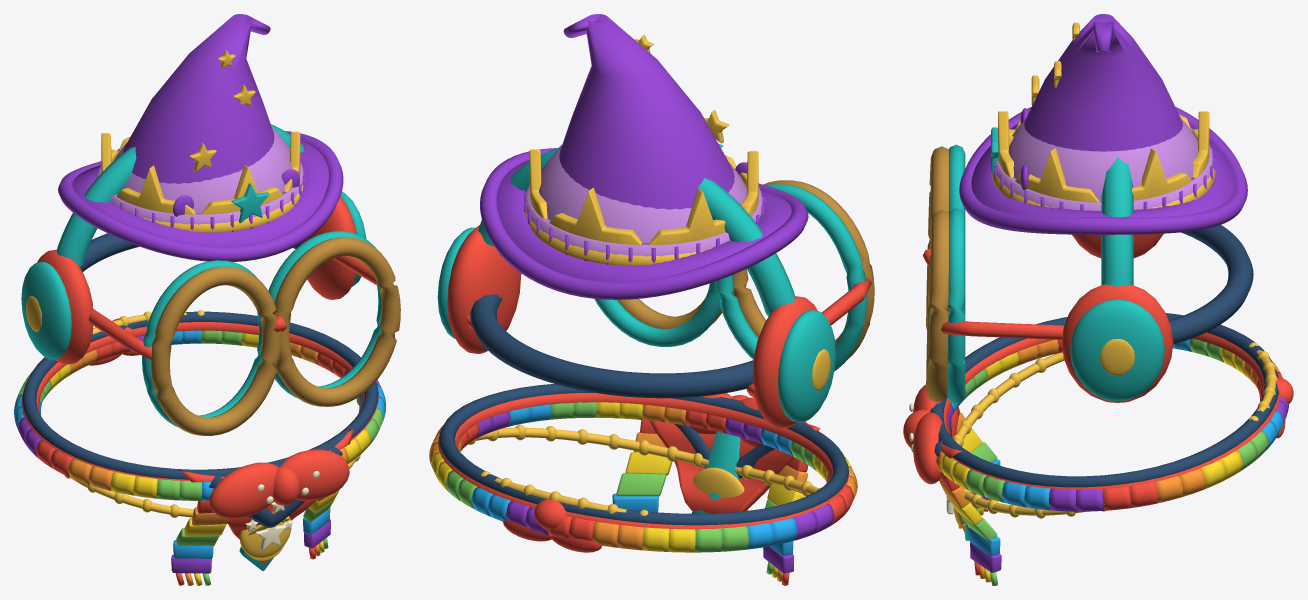
File: sunny-wearables.glb
The picture shows the model from 3 angles, left to right: view 1: azimuth 30°, elevation 25°; view 2: azimuth 150°, elevation 25°; view 3: azimuth 270°, elevation 25°; orthographic projection. The views are drawn at different scales.
Parts seen in each view (by area): view 1: wizard_Wearables_violet, goggles_Wearables_brass, medal_Wearables_navy, headphones_Wearables_teal, bowtie_Wearables_coral, beanie_Wearables_lilac, headphones_Wearables_coral, crown_Wearables_gold, goggles_Wearables_teal, bandana_Wearables_coral, scarf_Wearables_green, scarf_Wearables_yellow_yarn (+12 smaller); view 2: wizard_Wearables_violet, bandana_Wearables_coral, headphones_Wearables_teal, medal_Wearables_navy, headphones_Wearables_coral, goggles_Wearables_navy, goggles_Wearables_teal, beanie_Wearables_lilac, crown_Wearables_gold, necklace_Wearables_gold, scarf_Wearables_green, scarf_Wearables_yellow_yarn (+10 smaller); view 3: wizard_Wearables_violet, headphones_Wearables_teal, beanie_Wearables_lilac, medal_Wearables_navy, crown_Wearables_gold, goggles_Wearables_brass, goggles_Wearables_teal, headphones_Wearables_coral, goggles_Wearables_navy, bandana_Wearables_coral, necklace_Wearables_gold, scarf_Wearables_yellow_yarn (+10 smaller).
Boxes of the visible parts, left/top/right/bottom form: wizard_Wearables_violet: left=58, top=14, right=343, bottom=261; goggles_Wearables_brass: left=150, top=237, right=400, bottom=435; medal_Wearables_navy: left=22, top=311, right=378, bottom=527; headphones_Wearables_teal: left=21, top=124, right=366, bottom=359; bowtie_Wearables_coral: left=209, top=449, right=349, bottom=518; beanie_Wearables_lilac: left=98, top=128, right=303, bottom=224; headphones_Wearables_coral: left=37, top=196, right=356, bottom=364; crown_Wearables_gold: left=101, top=98, right=303, bottom=232; goggles_Wearables_teal: left=142, top=231, right=392, bottom=426; bandana_Wearables_coral: left=21, top=318, right=378, bottom=563; scarf_Wearables_green: left=15, top=330, right=384, bottom=585; scarf_Wearables_yellow_yarn: left=31, top=333, right=371, bottom=585; wizard_Wearables_violet: left=480, top=14, right=808, bottom=299; bandana_Wearables_coral: left=438, top=393, right=849, bottom=552; headphones_Wearables_teal: left=437, top=147, right=835, bottom=422; medal_Wearables_navy: left=439, top=384, right=848, bottom=525; headphones_Wearables_coral: left=447, top=225, right=817, bottom=428; goggles_Wearables_navy: left=470, top=294, right=753, bottom=398; goggles_Wearables_teal: left=594, top=184, right=867, bottom=371; beanie_Wearables_lilac: left=526, top=145, right=762, bottom=256; crown_Wearables_gold: left=526, top=110, right=758, bottom=265; necklace_Wearables_gold: left=468, top=424, right=821, bottom=515; scarf_Wearables_green: left=445, top=402, right=816, bottom=574; scarf_Wearables_yellow_yarn: left=430, top=402, right=852, bottom=577; wizard_Wearables_violet: left=959, top=14, right=1247, bottom=234; headphones_Wearables_teal: left=1070, top=157, right=1164, bottom=401; beanie_Wearables_lilac: left=995, top=119, right=1212, bottom=210; medal_Wearables_navy: left=930, top=313, right=1278, bottom=487; crown_Wearables_gold: left=991, top=111, right=1215, bottom=208; goggles_Wearables_brass: left=926, top=146, right=949, bottom=402; goggles_Wearables_teal: left=947, top=144, right=965, bottom=404; headphones_Wearables_coral: left=1061, top=233, right=1173, bottom=402; goggles_Wearables_navy: left=1169, top=225, right=1253, bottom=344; bandana_Wearables_coral: left=938, top=332, right=1293, bottom=531; necklace_Wearables_gold: left=953, top=342, right=1277, bottom=528; scarf_Wearables_yellow_yarn: left=940, top=348, right=1246, bottom=582.
Size of the model in its own units: 3 by 4.34 by 2.8.
